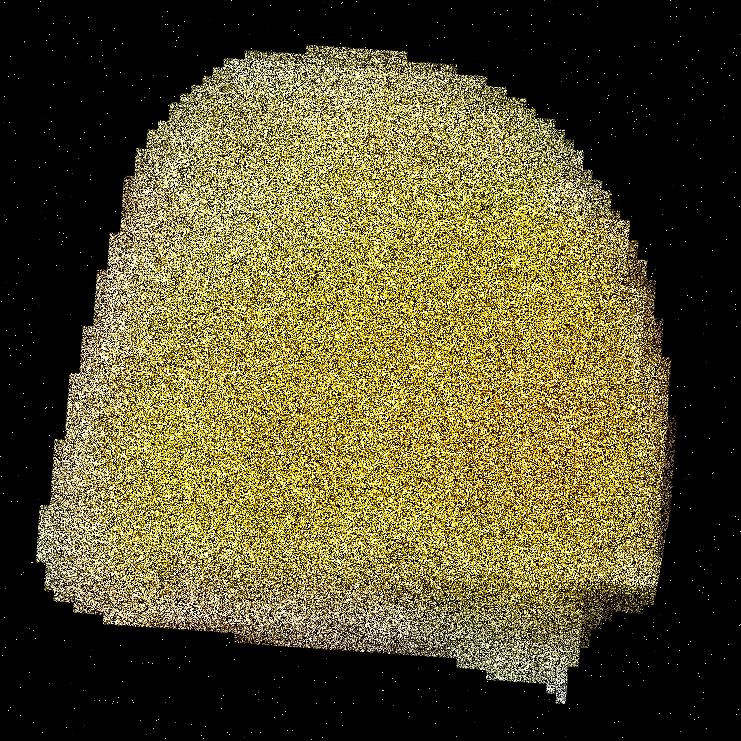Capacete: (154, 0, 709, 740)
